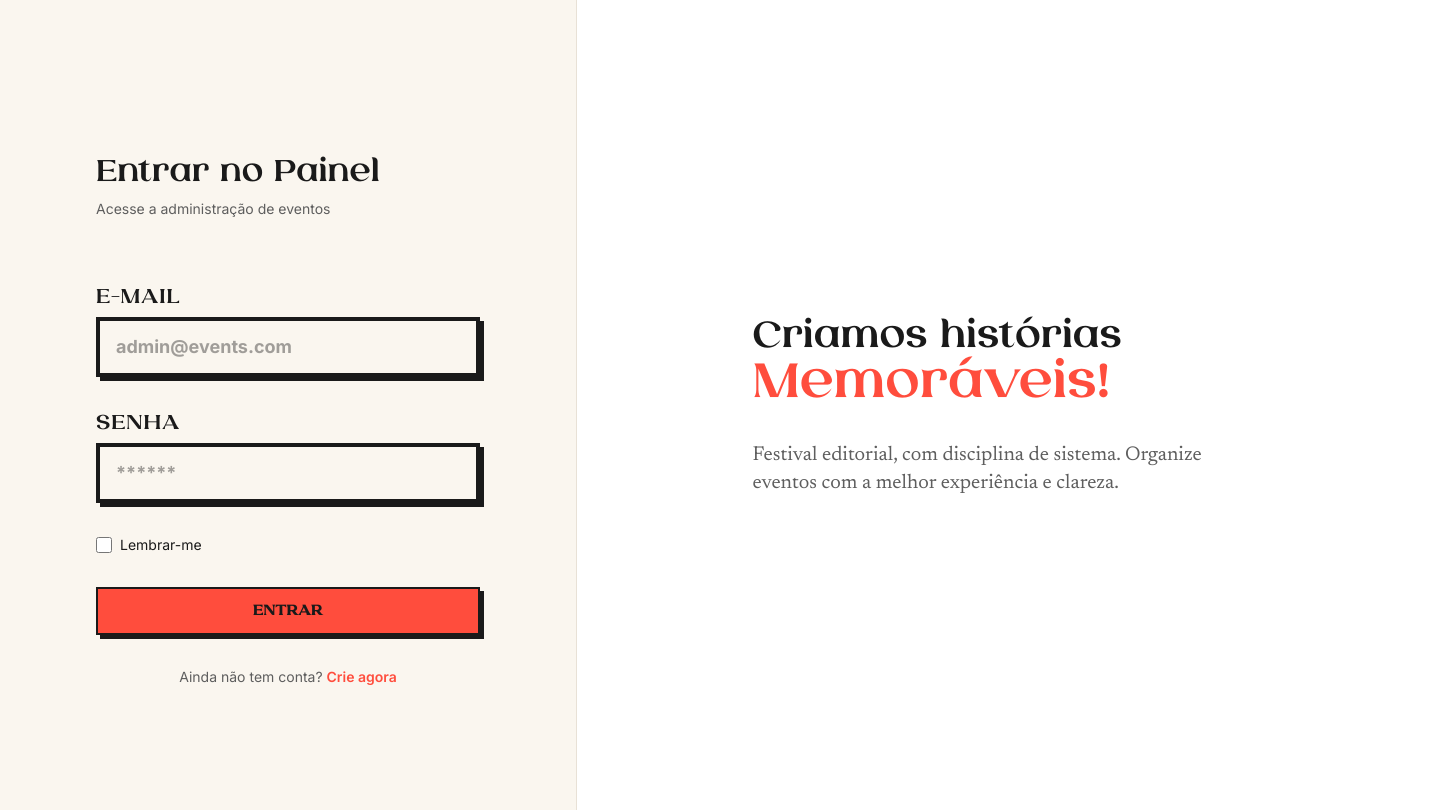
Test: Login page › exibe mensagem de erro ao falhar o login
Type "wrong@test.com" into the field labelled "E-mail". click: (288, 347)
box: [96,317,480,377]
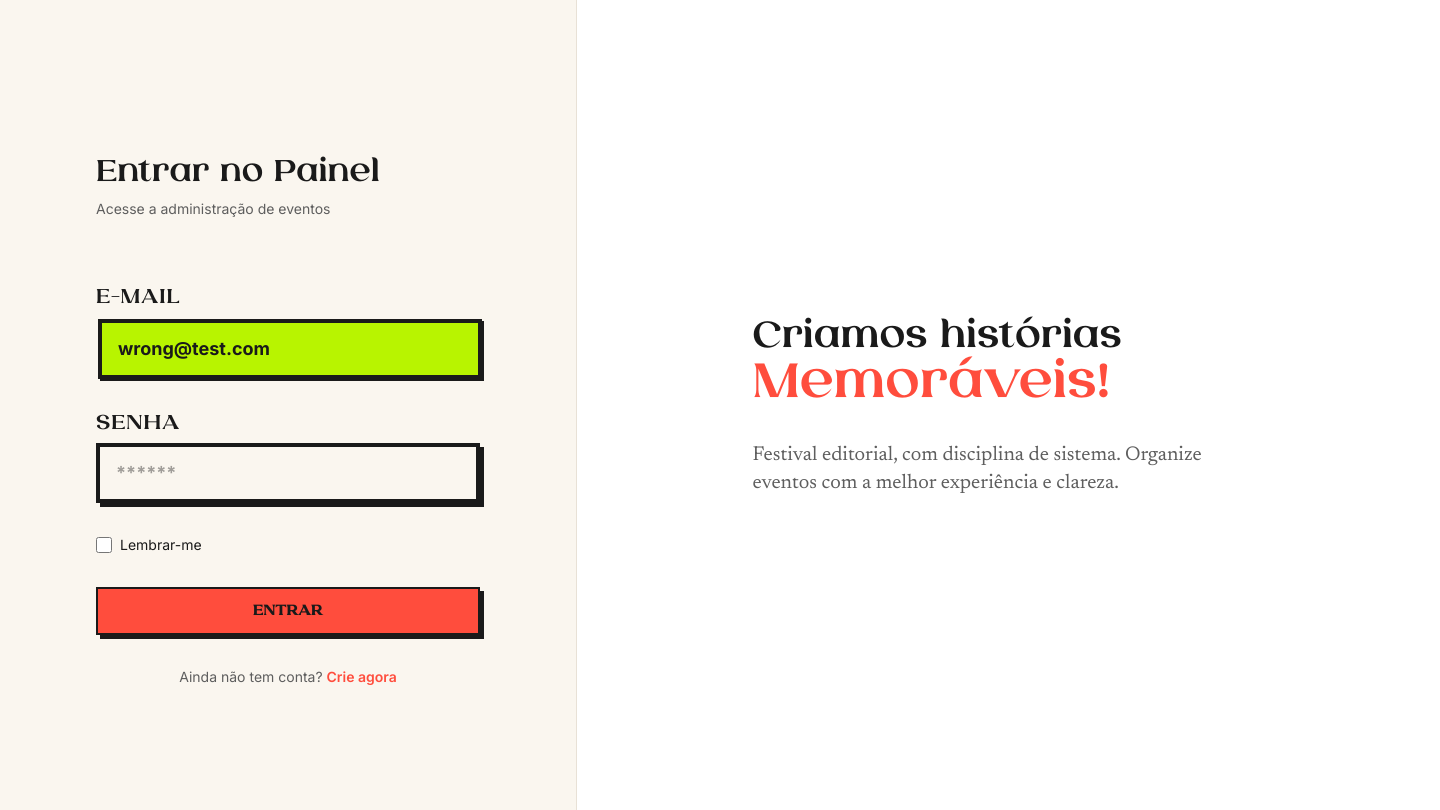
Type "errada123" into the password field labelled "Senha". click: (288, 473)
box: [96,443,480,503]
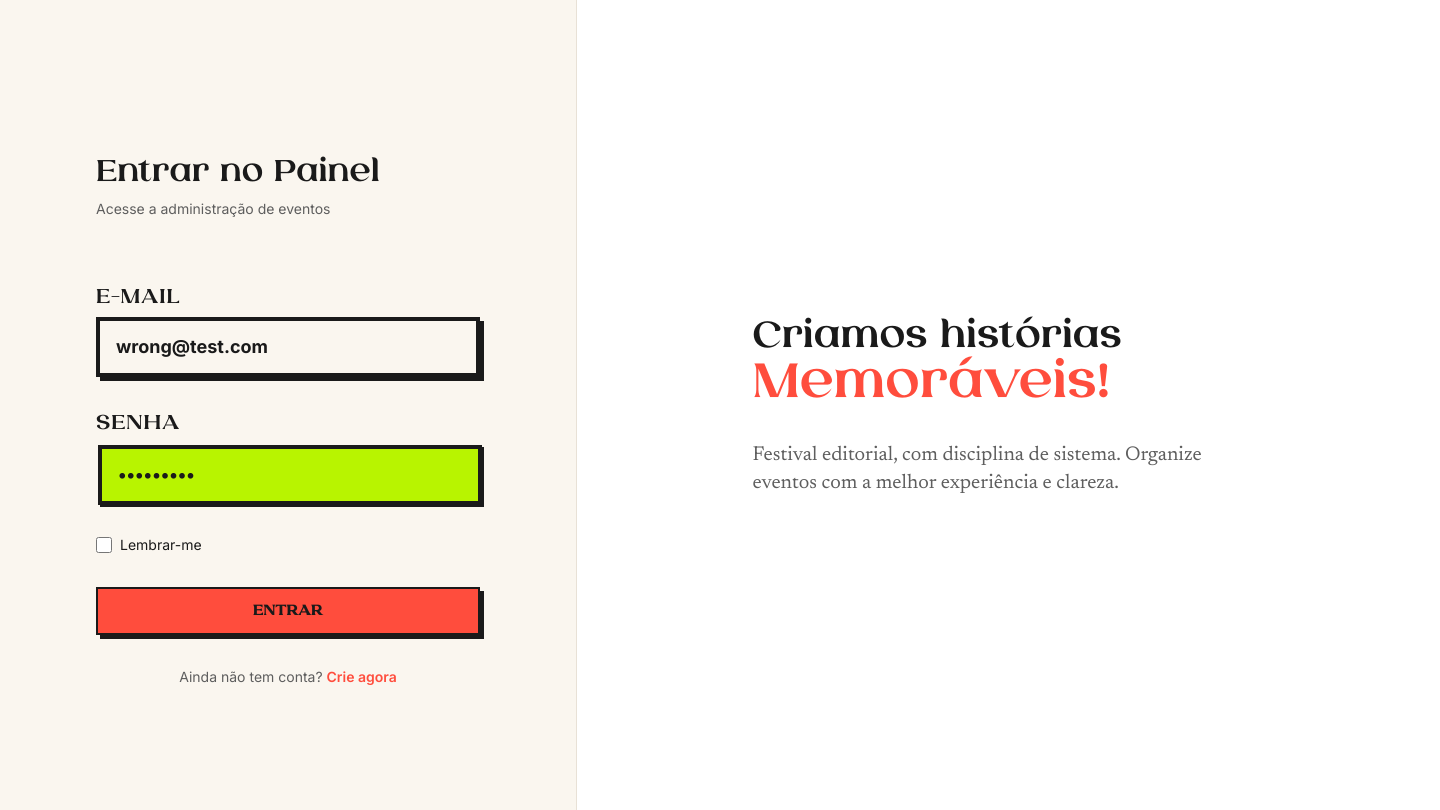
Click the button "Entrar". click: (288, 611)
box: [96,587,480,635]
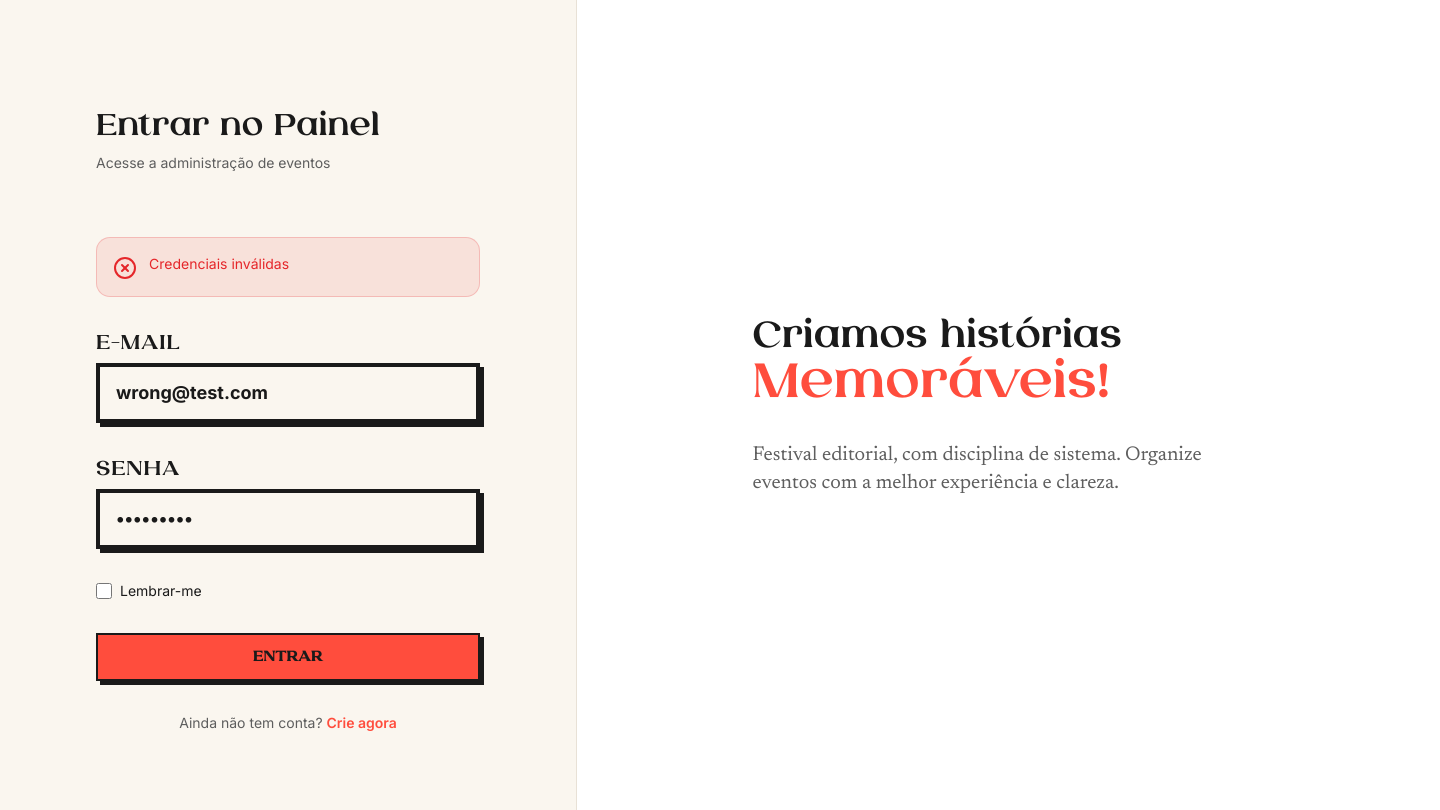
Expected: the text "Credenciais inválidas" is shown, [149,254,289,274]
